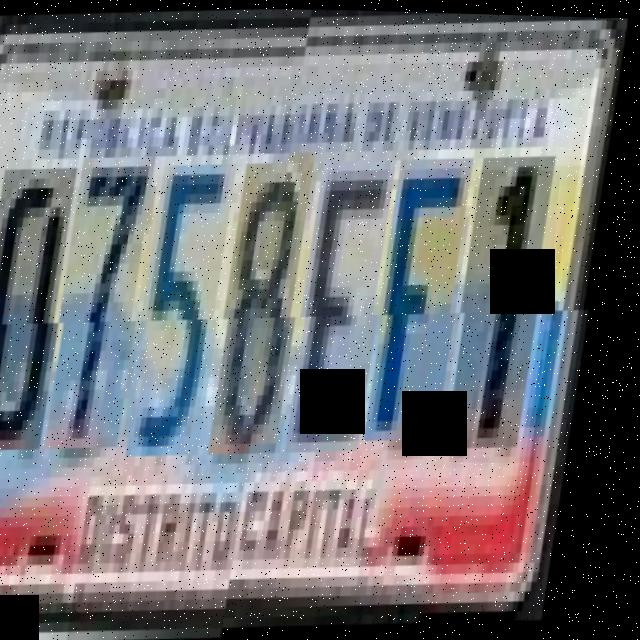0: (0, 166, 94, 453)
1: (454, 164, 569, 461)
5: (135, 162, 252, 458)
7: (55, 154, 171, 450)
8: (218, 161, 329, 457)
E: (294, 168, 410, 464)
F: (372, 167, 487, 453)
